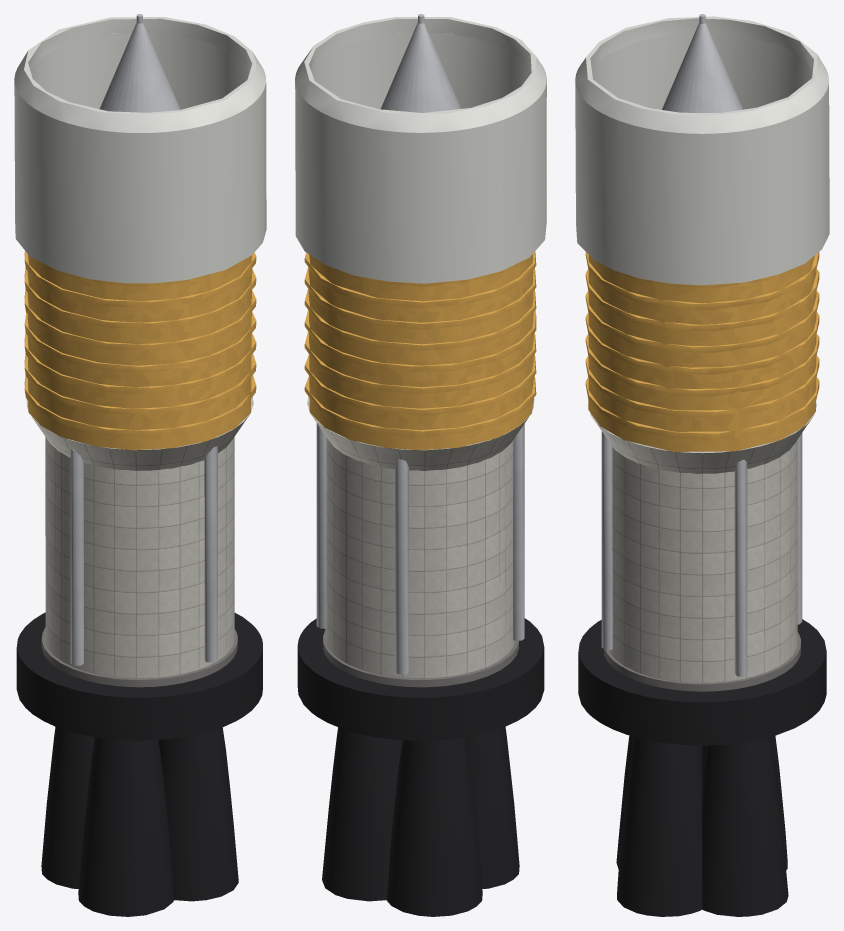
The model's file is jet12_precooled_combined_cycle.glb.
3 renders of one model, left to right at view 1: azimuth 30°, elevation 25°; view 2: azimuth 150°, elevation 25°; view 3: azimuth 270°, elevation 25°, orthographic.
Parts seen in each view (by area): view 1: cowl, precooler, core, rocket_nozzles, bypass_burners, core_pipes, spike, mount_ring; view 2: cowl, core, precooler, rocket_nozzles, bypass_burners, core_pipes, spike, mount_ring; view 3: cowl, core, precooler, rocket_nozzles, bypass_burners, core_pipes, spike, mount_ring.
Part boxes in pixels (left/top/right/bottom): cowl: left=14, top=17, right=266, bottom=283; precooler: left=24, top=251, right=256, bottom=450; core: left=26, top=397, right=253, bottom=678; rocket_nozzles: left=41, top=726, right=238, bottom=916; bypass_burners: left=16, top=612, right=262, bottom=740; core_pipes: left=70, top=446, right=217, bottom=665; spike: left=99, top=14, right=180, bottom=112; mount_ring: left=41, top=627, right=237, bottom=687; cowl: left=295, top=17, right=546, bottom=283; core: left=307, top=396, right=534, bottom=678; precooler: left=304, top=251, right=536, bottom=450; rocket_nozzles: left=322, top=726, right=519, bottom=916; bypass_burners: left=297, top=618, right=544, bottom=740; core_pipes: left=316, top=423, right=524, bottom=674; spike: left=381, top=14, right=460, bottom=112; mount_ring: left=323, top=629, right=518, bottom=687; cowl: left=575, top=16, right=829, bottom=285; core: left=588, top=401, right=816, bottom=682; precooler: left=585, top=252, right=819, bottom=451; rocket_nozzles: left=616, top=735, right=788, bottom=916; bypass_burners: left=578, top=619, right=826, bottom=745; core_pipes: left=601, top=431, right=802, bottom=676; spike: left=662, top=14, right=742, bottom=112; mount_ring: left=604, top=632, right=800, bottom=691.
Size of the model in its own units: 1.6 by 6 by 1.6.
Materials: 6 (4 with a texture image).
